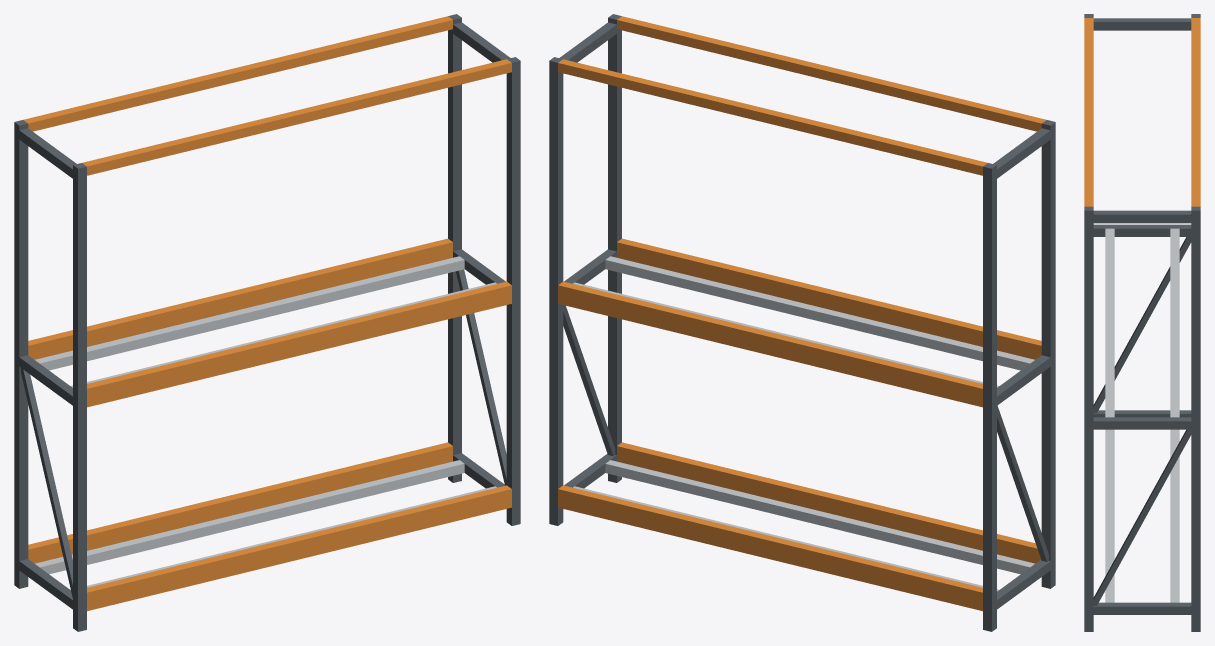
File: SM_Workshop_Rack_Tyre_01.fbx
3 renders of one model, left to right at view 1: azimuth 30°, elevation 25°; view 2: azimuth 150°, elevation 25°; view 3: azimuth 270°, elevation 25°, orthographic. The views are drawn at different scales.
Parts seen in each view (by area): view 1: SM_Workshop_Rack_Tyre_01; view 2: SM_Workshop_Rack_Tyre_01; view 3: SM_Workshop_Rack_Tyre_01.
Boxes of the visible parts, x1,y1,x2,y2 form: SM_Workshop_Rack_Tyre_01: [14, 14, 520, 631]; SM_Workshop_Rack_Tyre_01: [549, 14, 1055, 631]; SM_Workshop_Rack_Tyre_01: [1084, 14, 1200, 631].
Size of what is drawn, in the model's own units: 2 by 2 by 0.5.
Materials: 1 (1 with a texture image).
